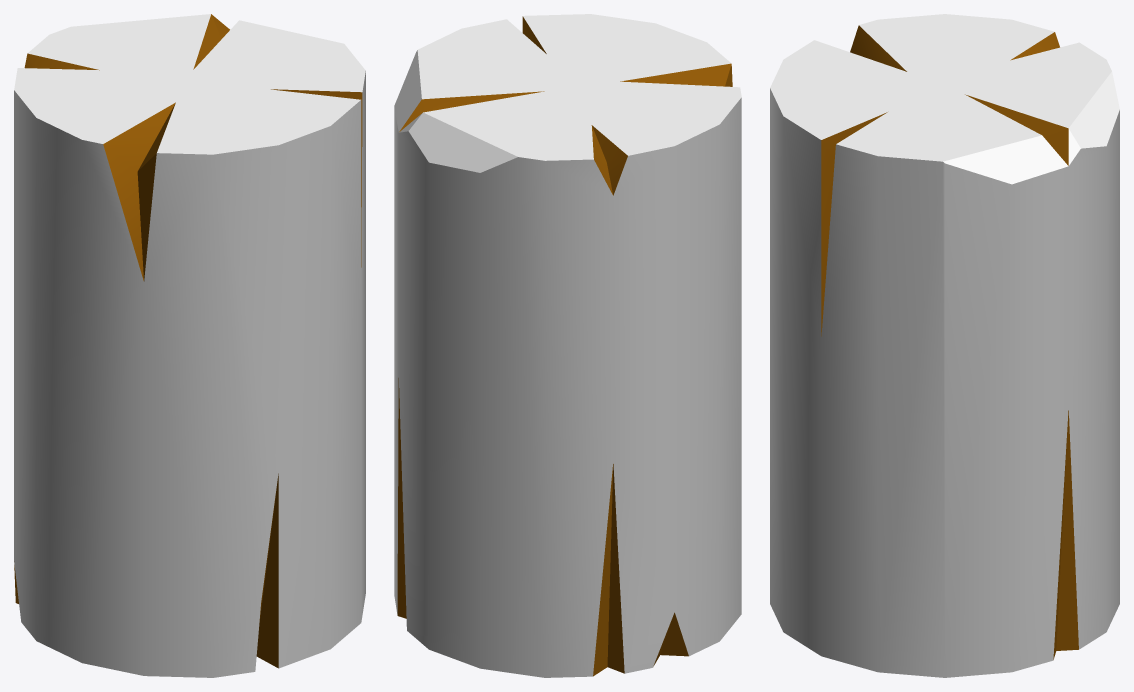
The model's file is stump2.glb.
3 views of the same model, side by side, from view 1: azimuth 30°, elevation 25°; view 2: azimuth 150°, elevation 25°; view 3: azimuth 270°, elevation 25° (orthographic).
Parts seen in each view (by area): view 1: 四方连续木头2最新; view 2: 四方连续木头2最新; view 3: 四方连续木头2最新.
Boxes of the visible parts, x1,y1,x2,y2 form: 四方连续木头2最新: [14, 14, 365, 677]; 四方连续木头2最新: [394, 14, 741, 677]; 四方连续木头2最新: [770, 14, 1119, 677].
Bounding box in the file's own units: 1.14 × 1.86 × 1.14.
